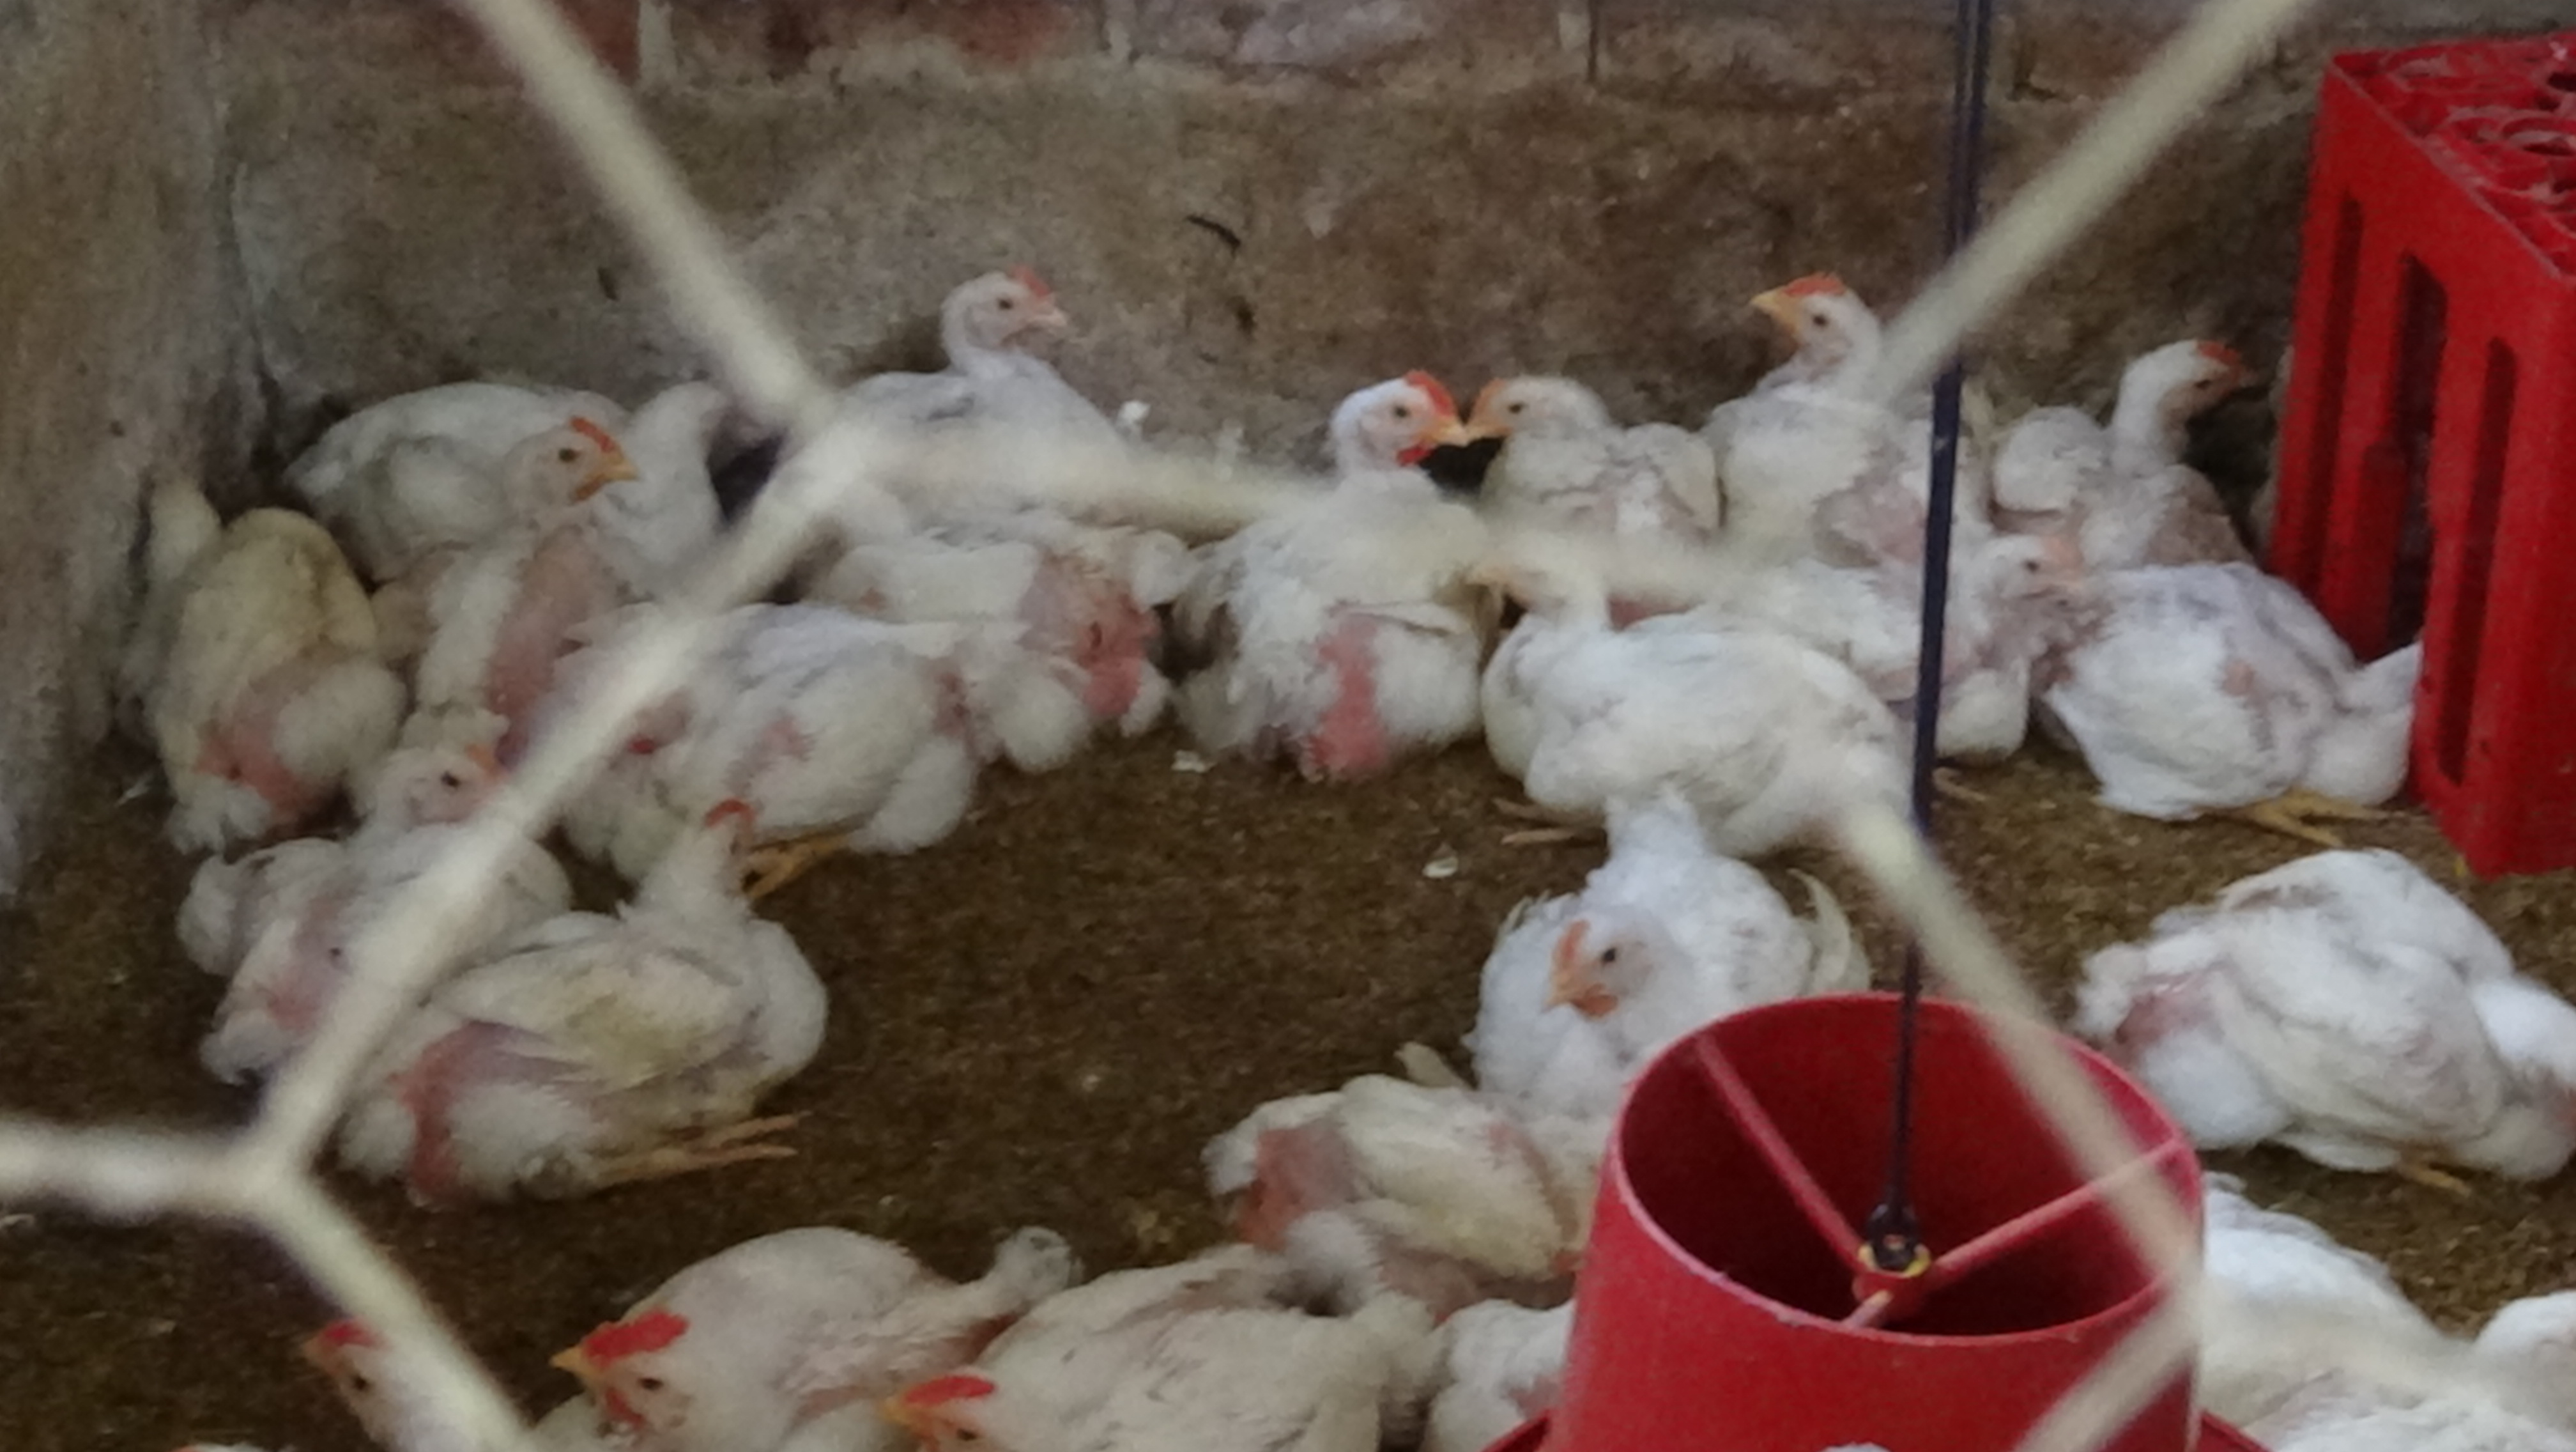Pollos: (322, 790, 821, 1213), (2098, 813, 2576, 1183), (2022, 577, 2473, 822), (1189, 1061, 1603, 1323), (83, 418, 345, 818), (844, 236, 1152, 510), (2026, 289, 2298, 558), (1251, 361, 1467, 689), (543, 1231, 817, 1452), (858, 1296, 1162, 1452), (1504, 894, 1771, 1068), (334, 715, 593, 894), (1444, 338, 1642, 510), (274, 1296, 478, 1452), (471, 414, 639, 558), (1729, 248, 1907, 354)
